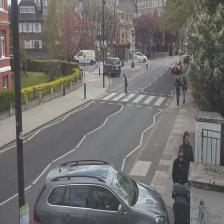person: (172, 148, 189, 212), (178, 130, 194, 197)
